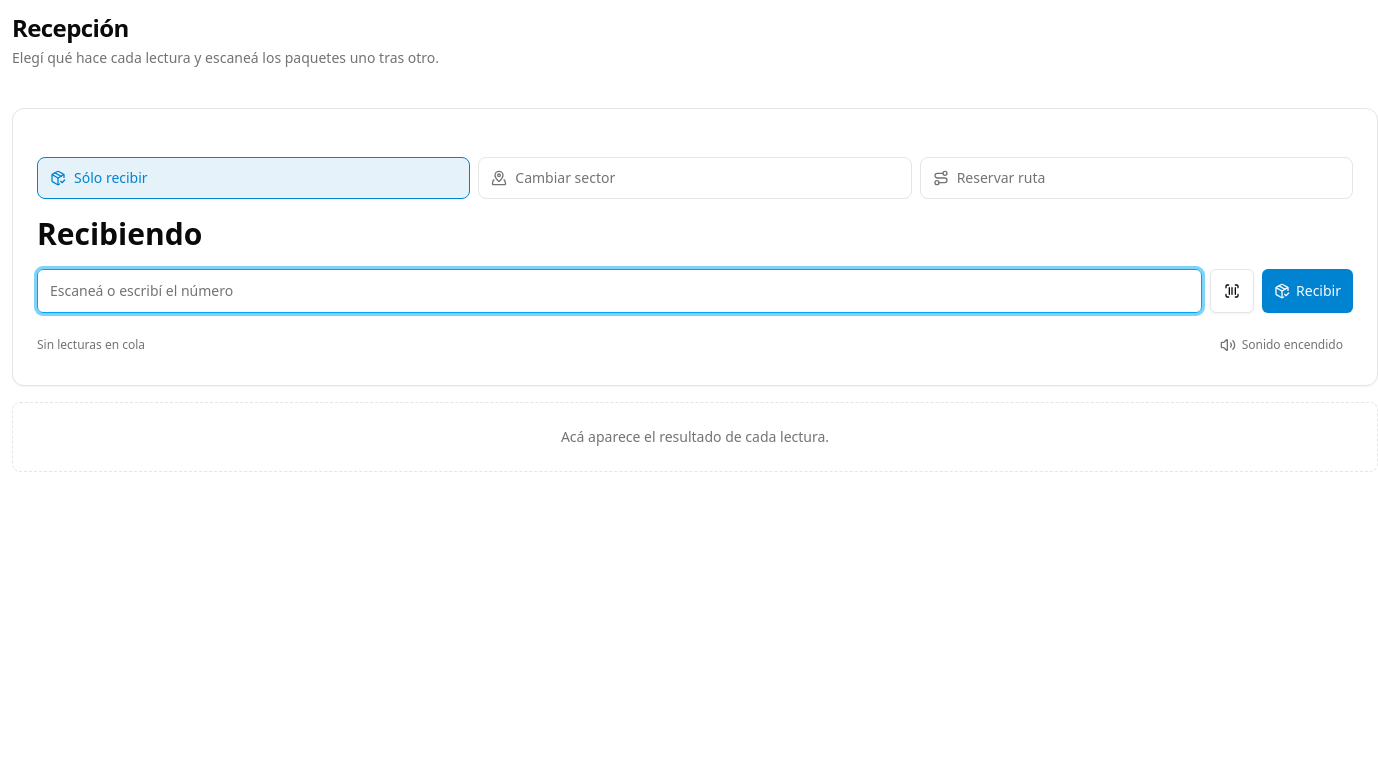
Recepción — los tres modos: una llamada por lectura › Cambiar sector: manda el sector elegido, y la leyenda lo dice en grande
Click the button "Cambiar sector" at point(565, 178), box top-left (478, 157), bottom-right (912, 199)
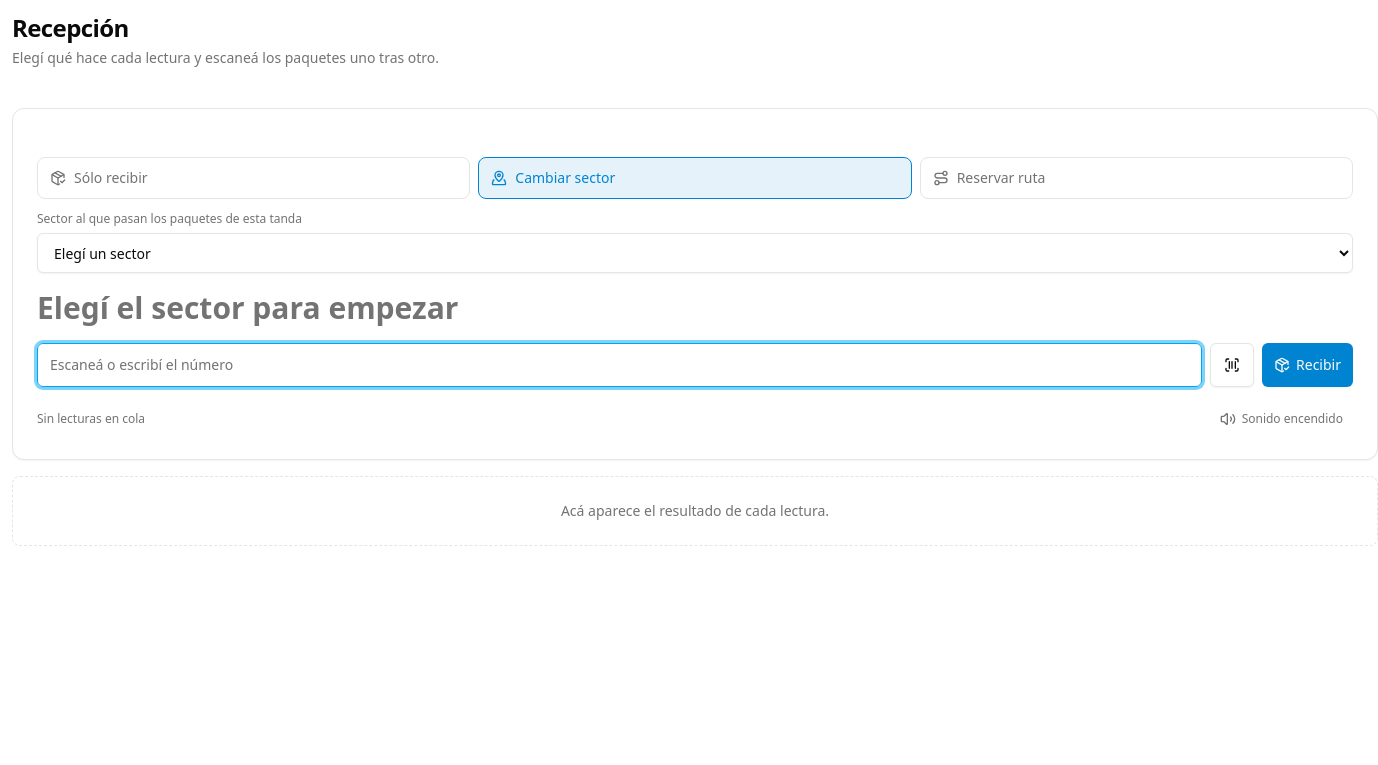
Select "Centro" in the dropdown labelled "Sector al que pasan los paquetes de esta tanda" at point(695, 253), box top-left (37, 233), bottom-right (1353, 273)
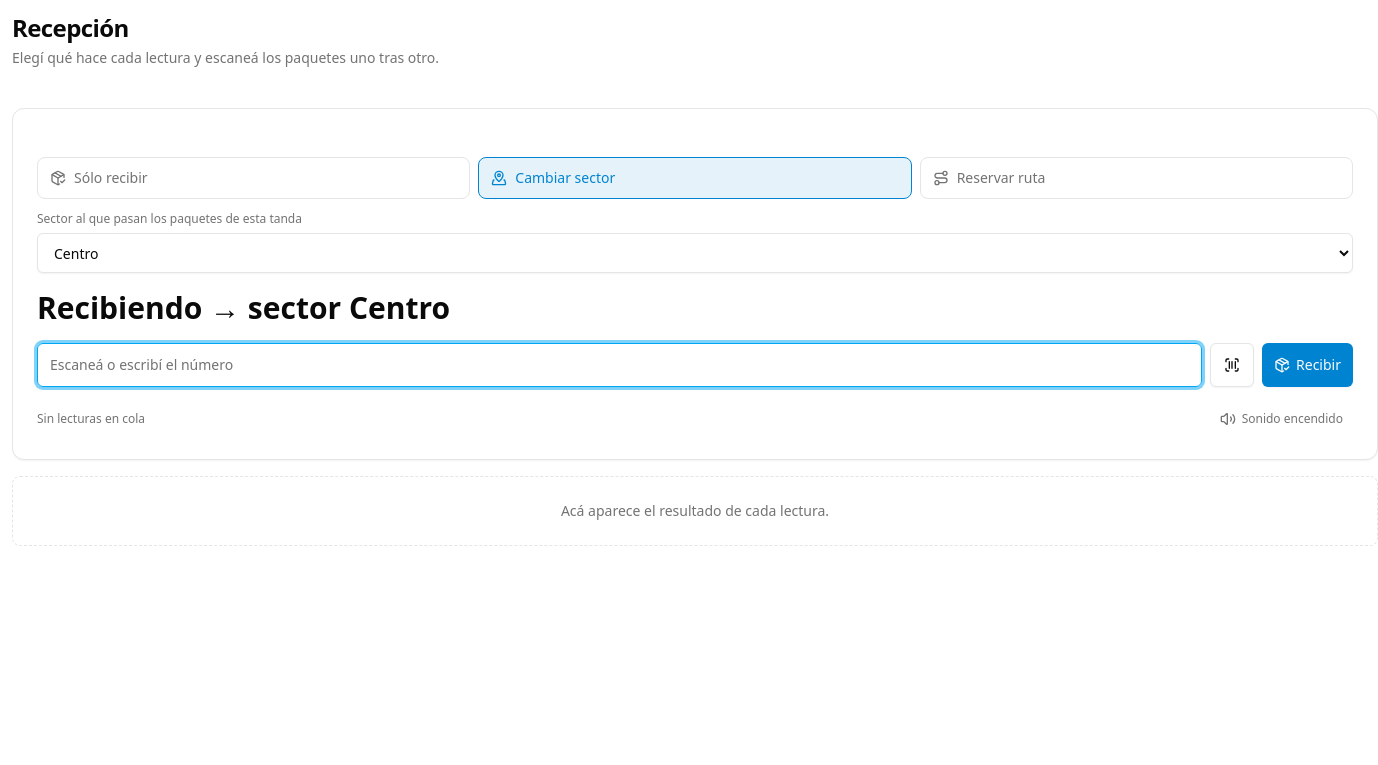
Result: the text "Recibiendo → sector Centro" is shown at top-left (37, 287), bottom-right (450, 328)
Type "000000009-3" into the field named "Número, remito o código de barras del envío" at point(620, 364), box top-left (37, 342), bottom-right (1202, 386)
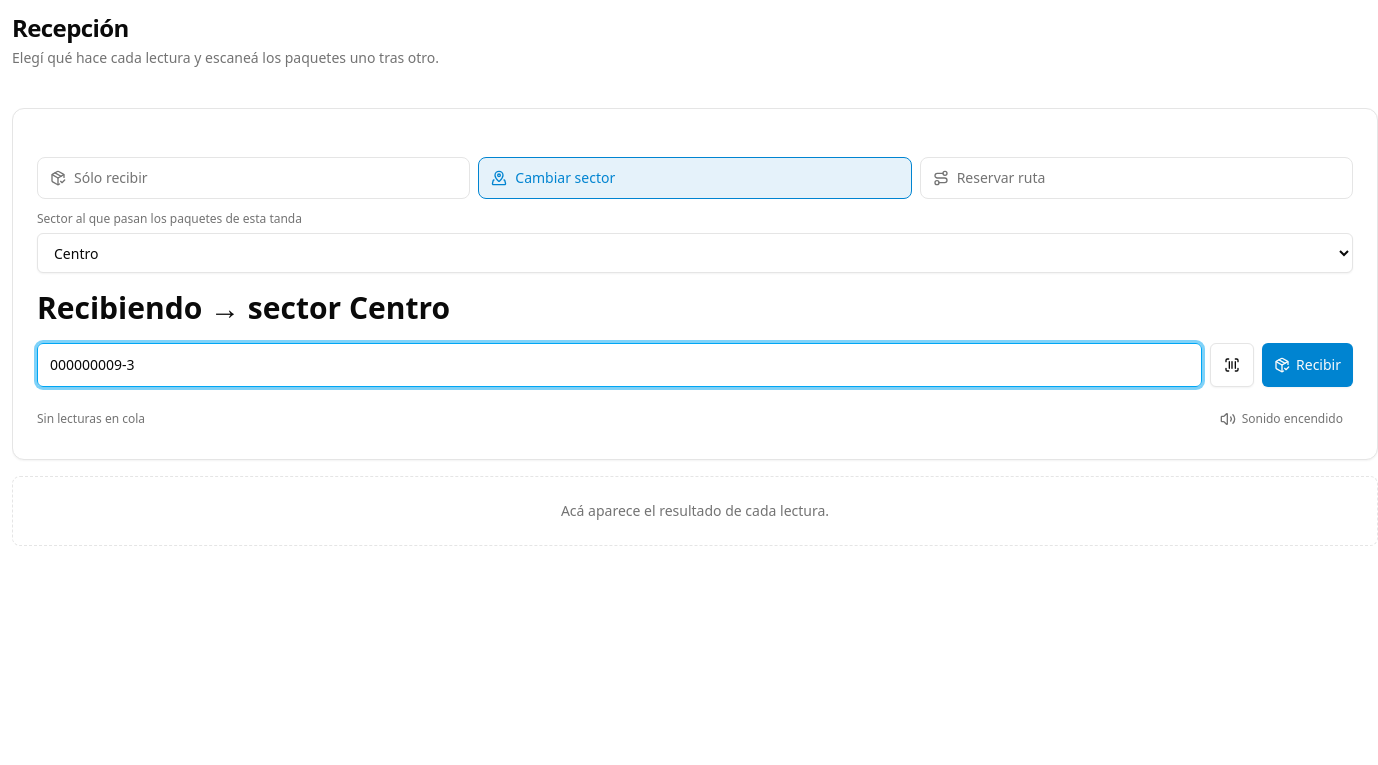
Press Enter in the field named "Número, remito o código de barras del envío", box top-left (37, 342), bottom-right (1202, 386)
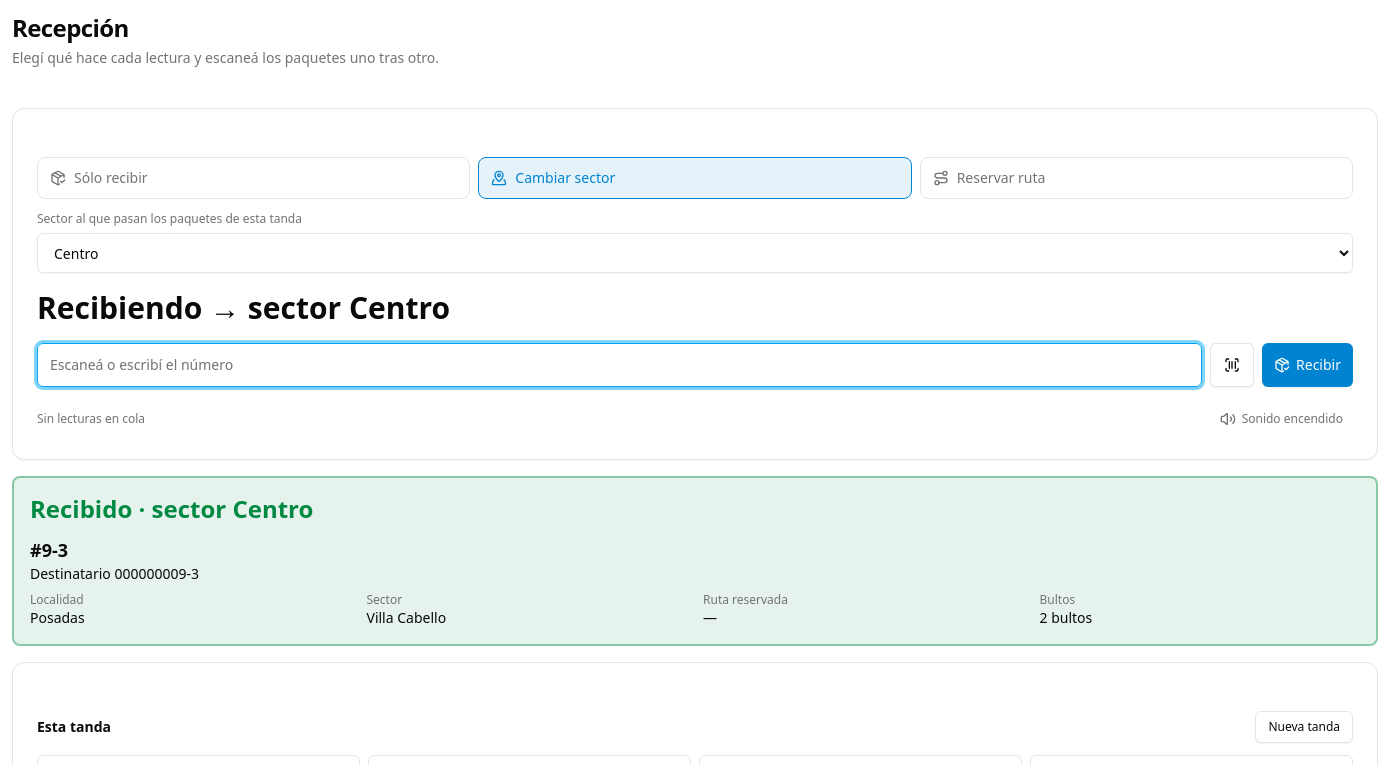
Result: the message shows "Recibido · sector Centro" at top-left (30, 492), bottom-right (313, 524)
